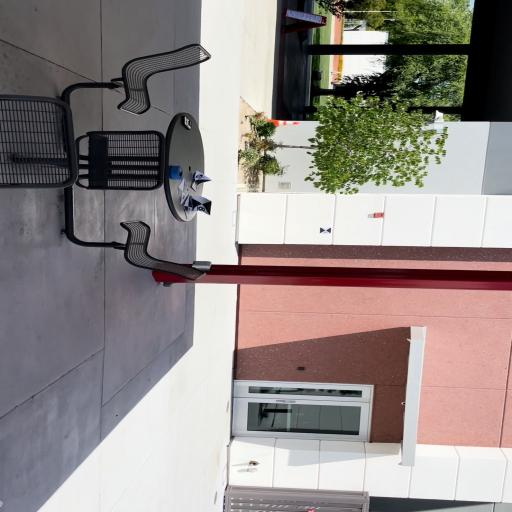target6: (320, 227, 330, 234)
